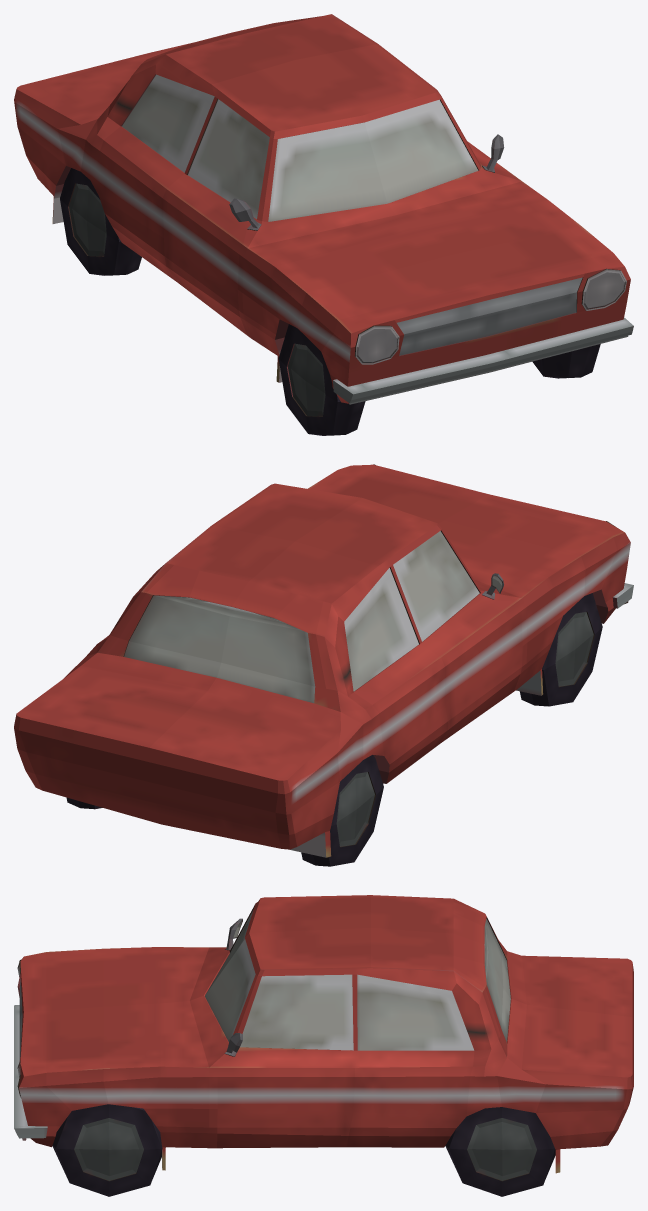
The model's file is Car3.fbx.
3 renders of one model, top to bottom at view 1: azimuth 30°, elevation 25°; view 2: azimuth 150°, elevation 25°; view 3: azimuth 270°, elevation 25°, orthographic. The views are drawn at different scales.
Visible parts, largest first — view 1: Car1.002; view 2: Car1.002; view 3: Car1.002.
Boxes of the visible parts, x1,y1,x2,y2 form: Car1.002: (14, 14, 633, 435); Car1.002: (14, 464, 633, 866); Car1.002: (14, 895, 633, 1196).
Size of the model in its own units: 206 by 166 by 430.
1 material, 1 textured.
